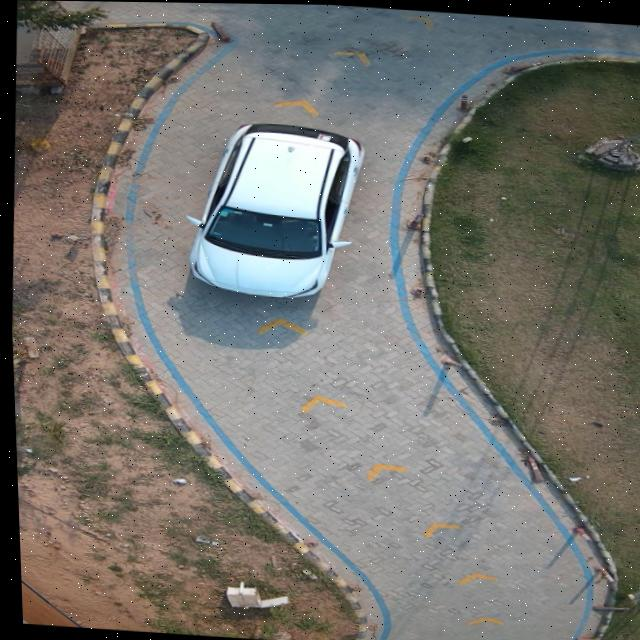car: (184, 122, 366, 298)
